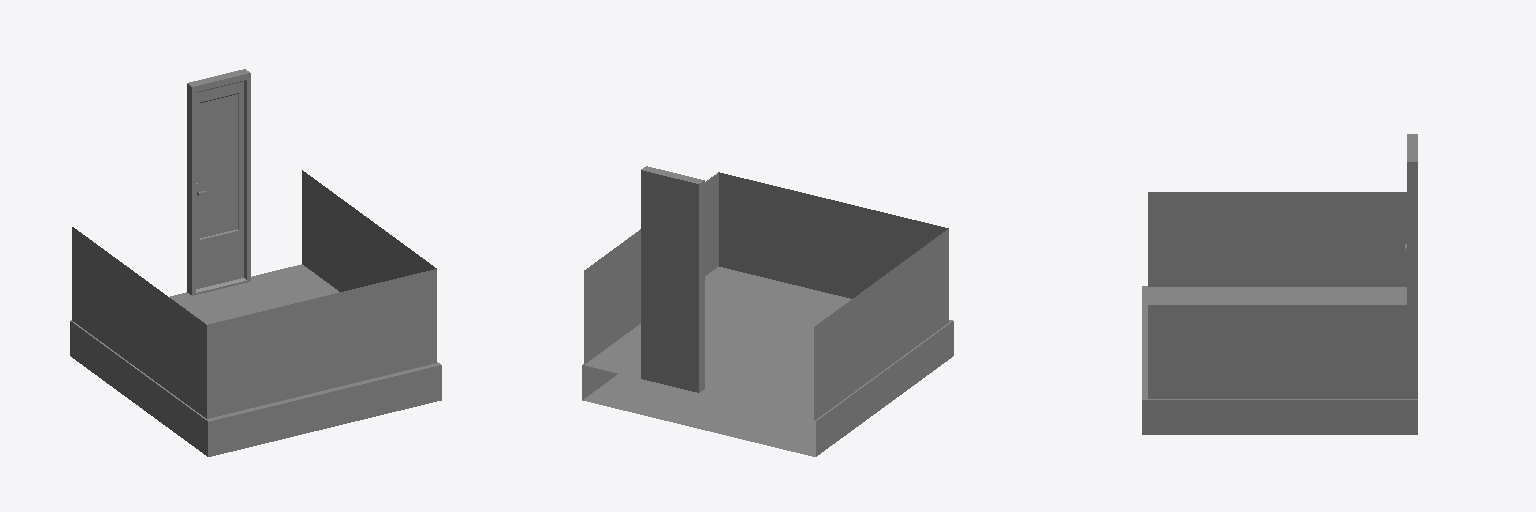
File: balcony.obj
3 views of the same model, side by side, from view 1: azimuth 30°, elevation 25°; view 2: azimuth 150°, elevation 25°; view 3: azimuth 270°, elevation 25° (orthographic).
Visible parts, largest first — view 1: balcony; view 2: balcony; view 3: balcony.
Boxes of the visible parts, x1,y1,x2,y2 form: balcony: [70, 69, 441, 456]; balcony: [582, 166, 953, 456]; balcony: [1142, 134, 1417, 434].
Bounding box in the file's own units: 12.77 × 12.79 × 13.09.